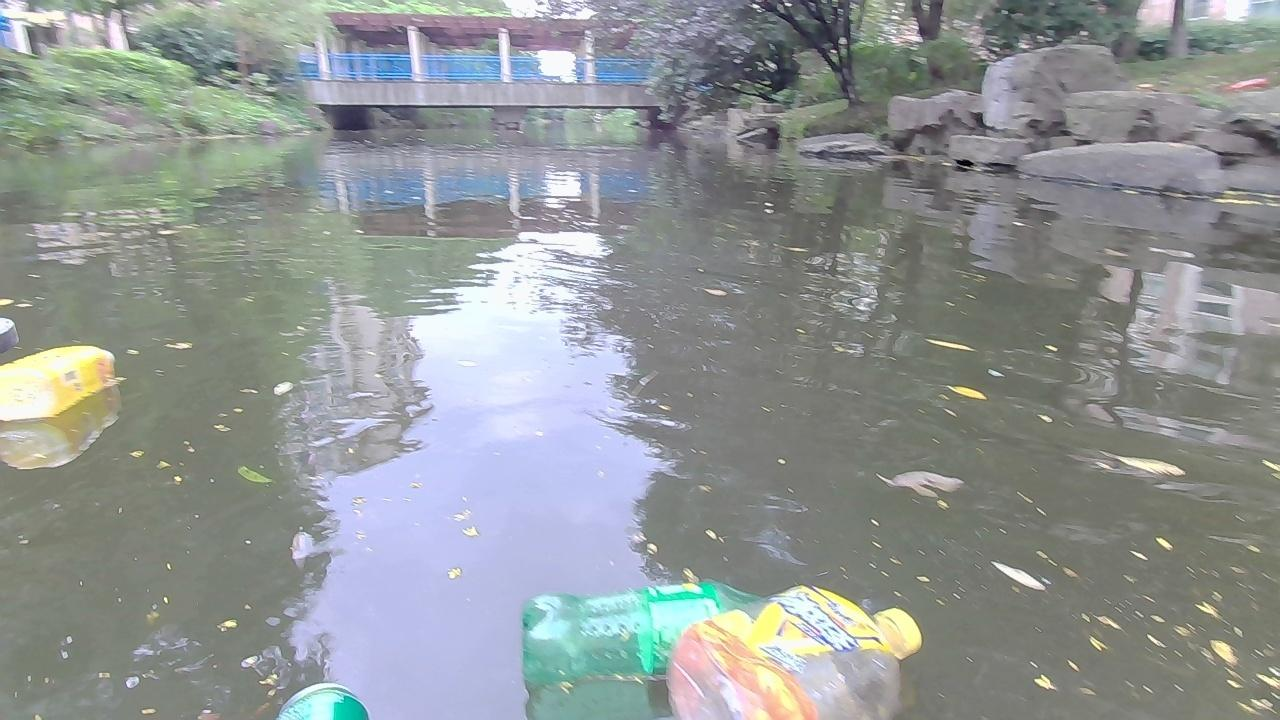bottle: (667, 581, 925, 719), (506, 576, 791, 688), (0, 345, 117, 419), (271, 679, 366, 719)
